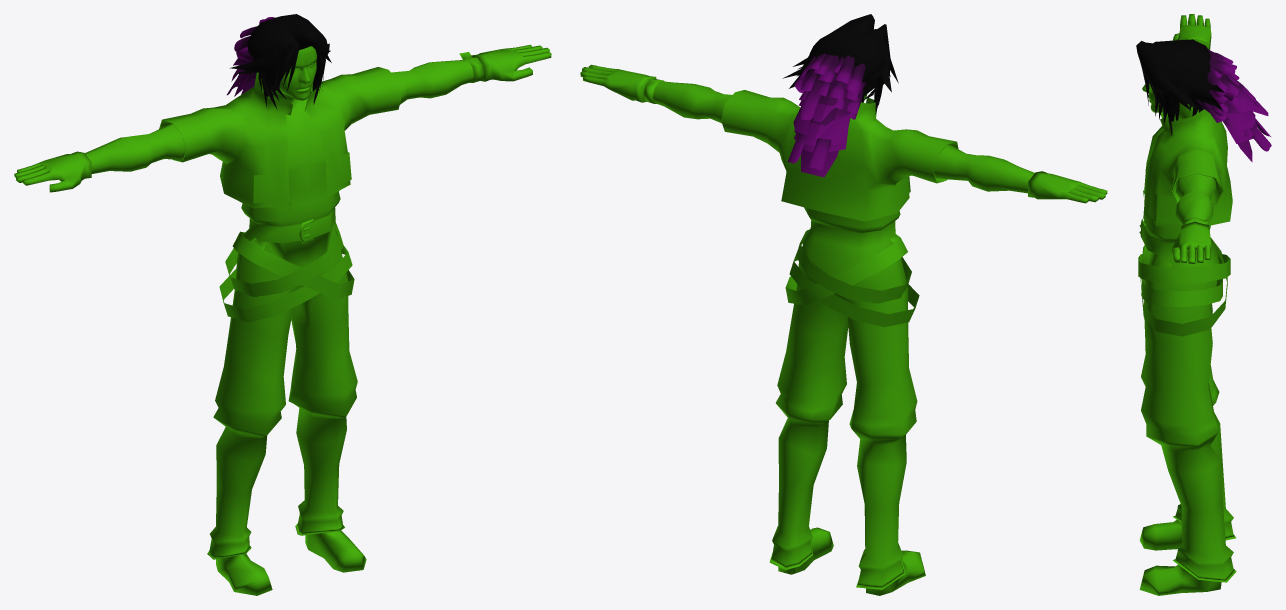
File: Main_character_model.fbx
The picture shows the model from 3 angles, left to right: view 1: azimuth 30°, elevation 25°; view 2: azimuth 150°, elevation 25°; view 3: azimuth 270°, elevation 25°; orthographic projection. The views are drawn at different scales.
Parts seen in each view (by area): view 1: Main_character_Final_model1, Hair; view 2: Main_character_Final_model1, Hair; view 3: Main_character_Final_model1, Hair.
Boxes of the visible parts, x1,y1,x2,y2 form: Main_character_Final_model1: (14, 44, 551, 595); Hair: (227, 14, 331, 109); Main_character_Final_model1: (580, 64, 1107, 595); Hair: (782, 14, 898, 177); Main_character_Final_model1: (1138, 14, 1236, 595); Hair: (1136, 39, 1271, 162).
Bounding box in the file's own units: 197 × 195 × 45.8.
